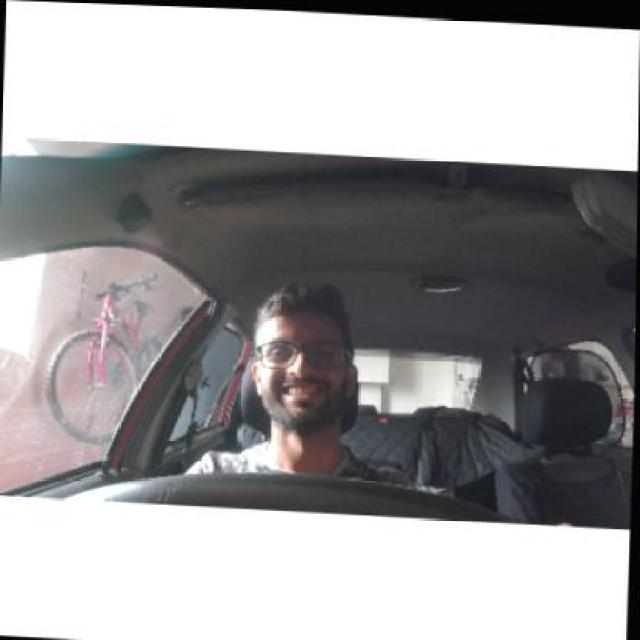person: (249, 281, 361, 445)
